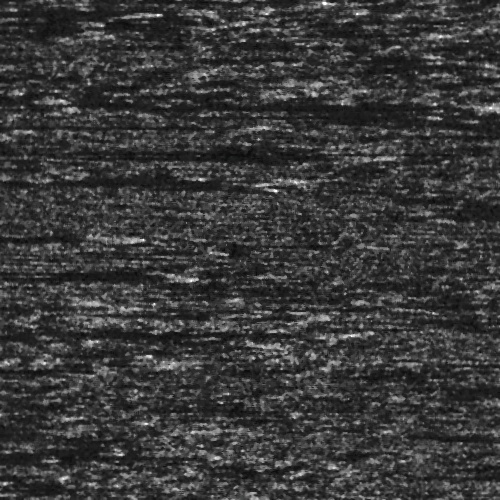object: (266, 326, 423, 341), (406, 94, 500, 115), (313, 147, 418, 160), (249, 176, 342, 183), (426, 27, 479, 38), (242, 117, 283, 130), (139, 268, 192, 277), (112, 8, 153, 15), (96, 233, 137, 238)
shadow: (111, 94, 468, 115), (58, 326, 344, 341), (75, 147, 366, 160), (111, 117, 262, 130), (305, 27, 452, 38), (75, 176, 296, 183), (0, 268, 166, 277), (0, 8, 132, 15), (380, 130, 500, 135), (0, 233, 116, 238), (418, 118, 500, 123)
